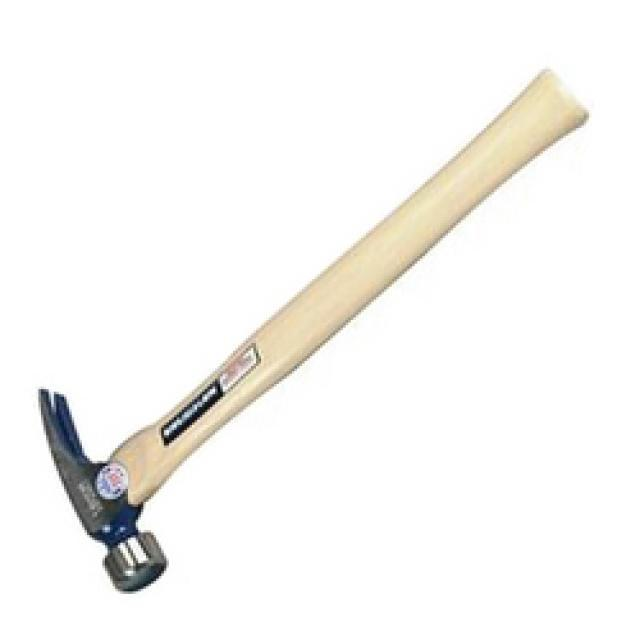hammer: (28, 56, 606, 602)
